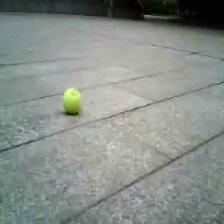tennis: (62, 86, 82, 114)
